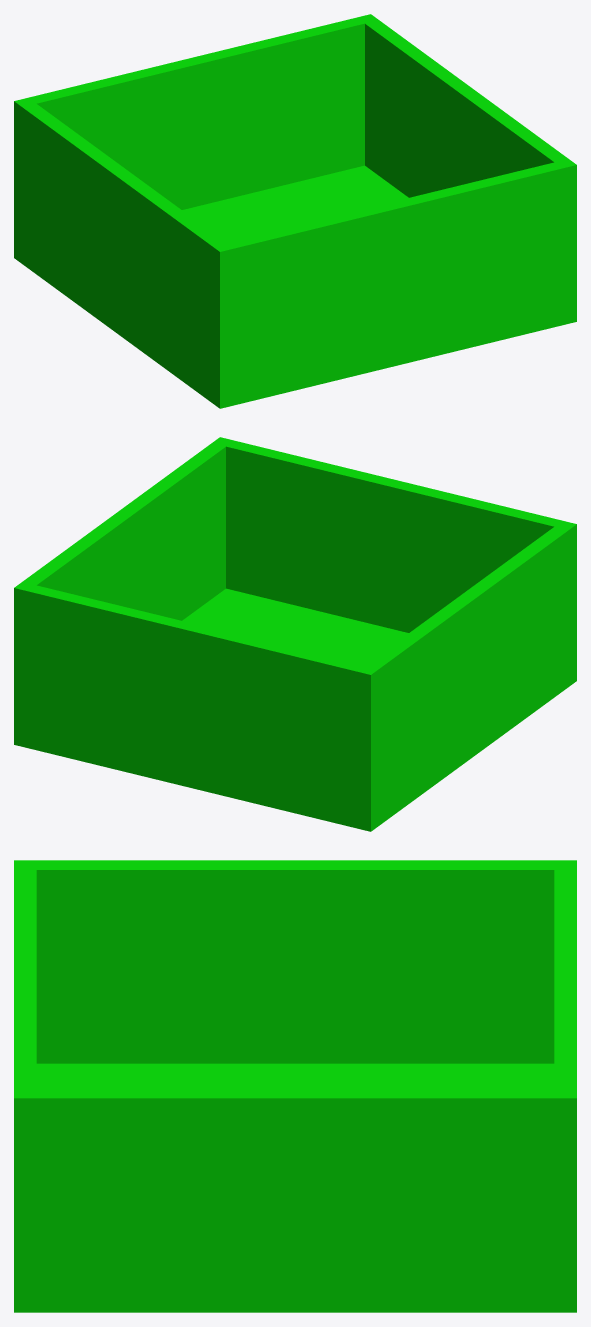
Rendered from Stage.fbx.
The picture shows the model from 3 angles, top to bottom: view 1: azimuth 30°, elevation 25°; view 2: azimuth 150°, elevation 25°; view 3: azimuth 270°, elevation 25°; orthographic projection. The views are drawn at different scales.
Parts seen in each view (by area): view 1: pCube6; view 2: pCube6; view 3: pCube6.
Boxes of the visible parts, x1=… form: pCube6: x1=14, y1=14, x2=576, y2=408; pCube6: x1=14, y1=437, x2=576, y2=831; pCube6: x1=14, y1=860, x2=576, y2=1312.
Bounding box in the file's own units: 25 × 10.5 × 25.
